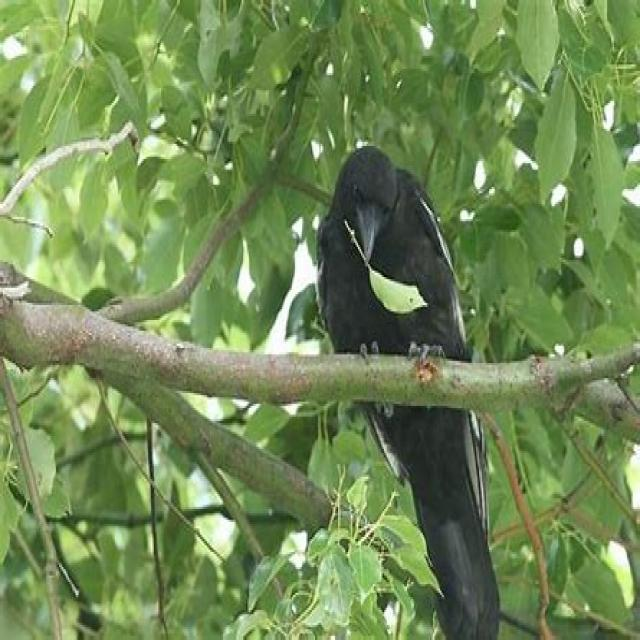crow: (316, 145, 515, 640)
